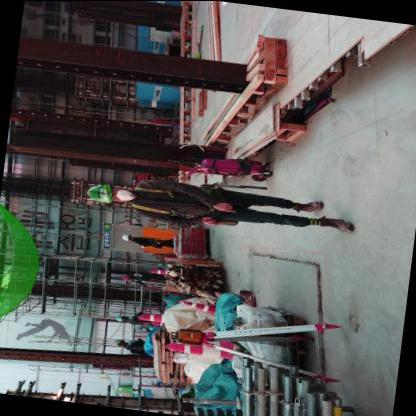safety-shoe: (314, 214, 364, 238), (297, 197, 332, 214)
